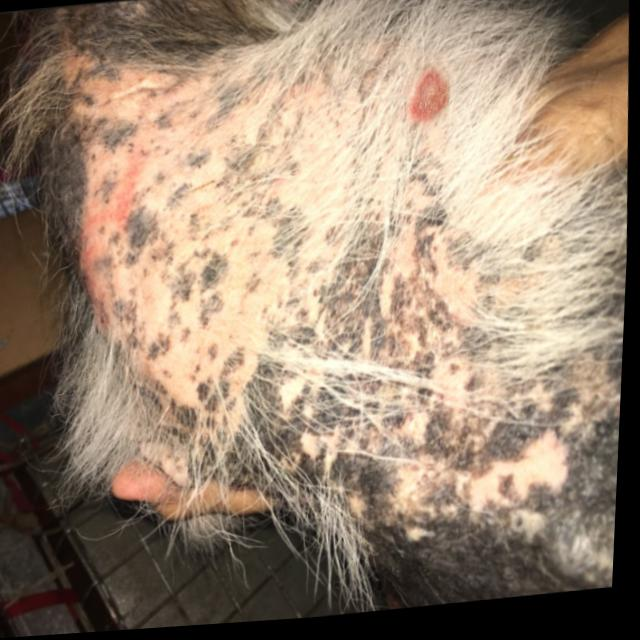ringworm: (406, 62, 481, 159)
